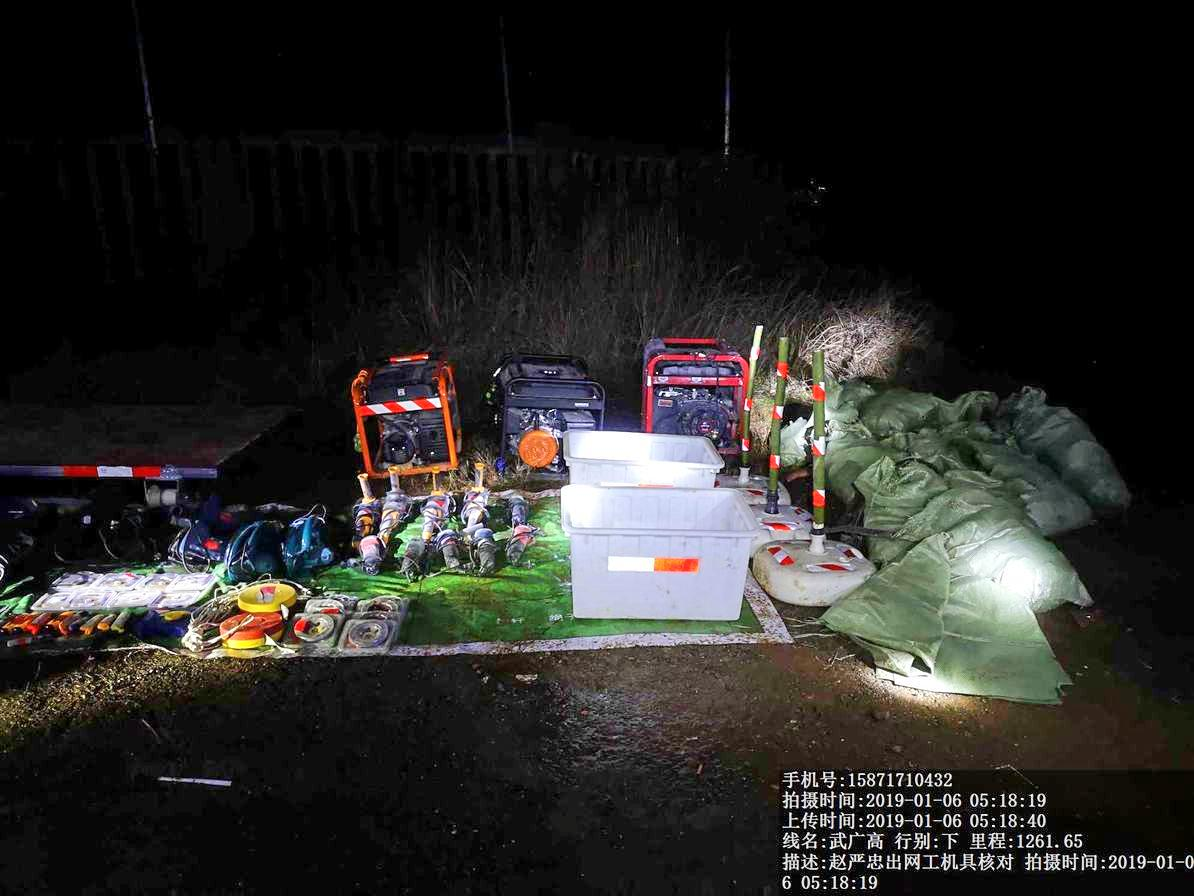DJ: (334, 346, 464, 481), (477, 356, 597, 485), (632, 310, 753, 426)
DMJ: (426, 530, 467, 577), (359, 533, 395, 582), (389, 535, 424, 583), (473, 529, 498, 578)
DZ: (374, 468, 411, 535), (420, 469, 456, 537), (463, 469, 500, 530), (344, 475, 378, 536)
JC: (217, 612, 286, 652), (234, 580, 300, 613)
ST: (774, 344, 873, 610)
T: (552, 481, 771, 627), (558, 423, 732, 486)
TC: (1, 404, 276, 498)
